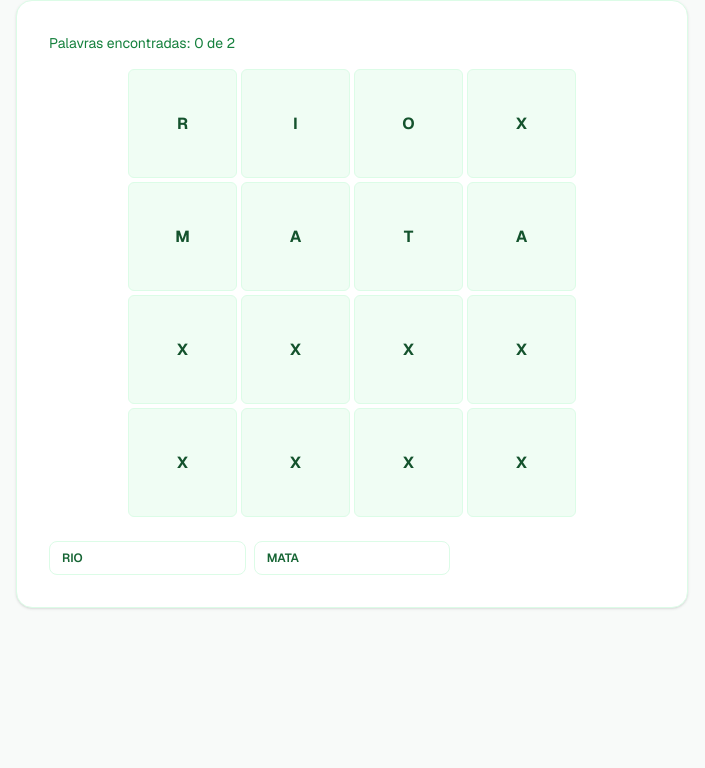
Test case: CacaPalavrasGame › exibe a mensagem de vitória ao encontrar todas as palavras
Click the button named "Linha 1, coluna 1" at (182, 124), box [128,69,237,178]
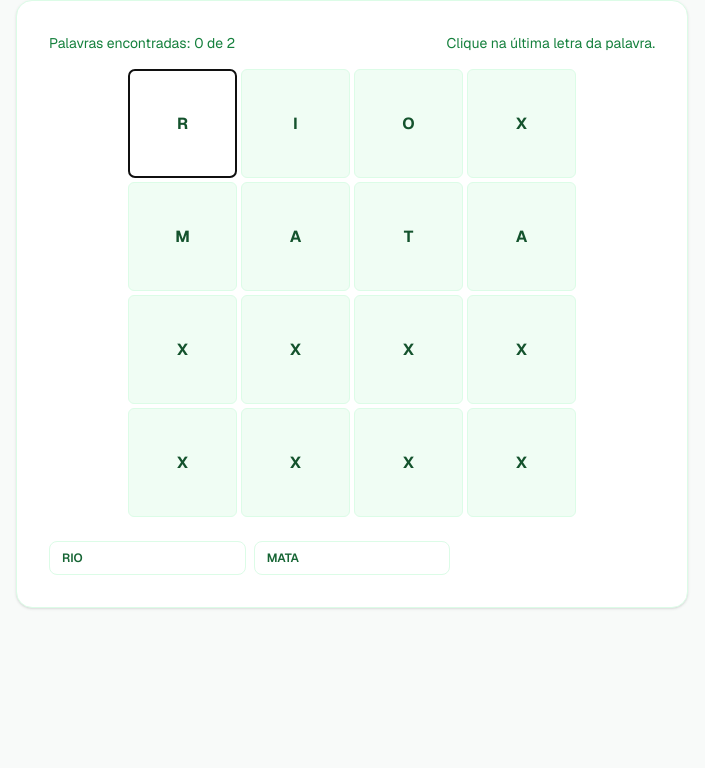
Click the button named "Linha 1, coluna 3" at (408, 124), box [354,69,463,178]
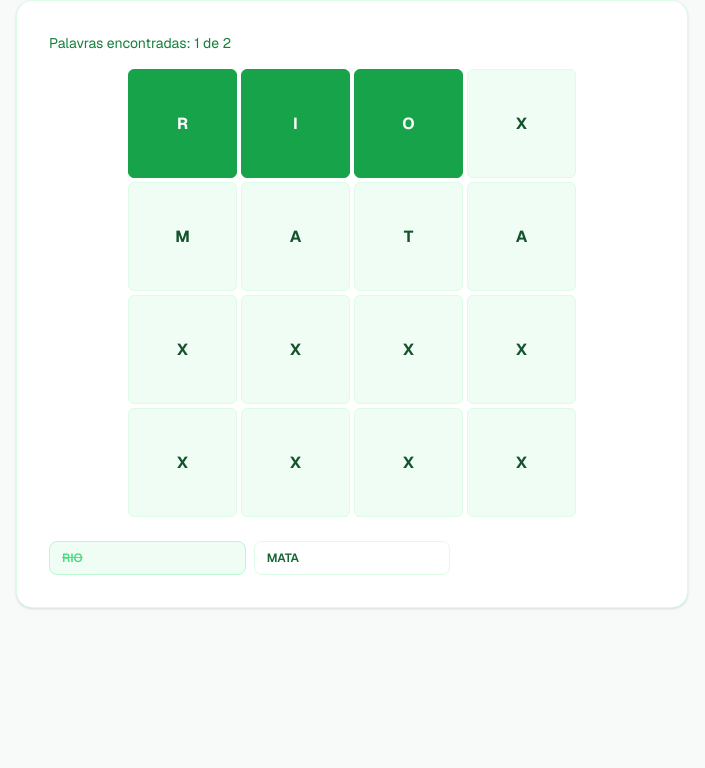
Click the button named "Linha 2, coluna 1" at (182, 236), box [128,182,237,291]
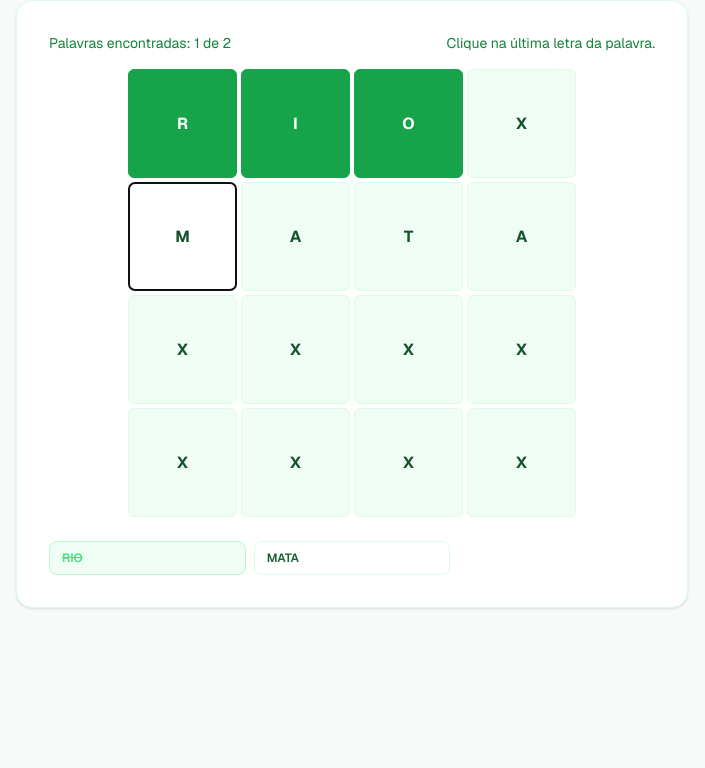
Click the button named "Linha 2, coluna 4" at (522, 236), box [467,182,576,291]
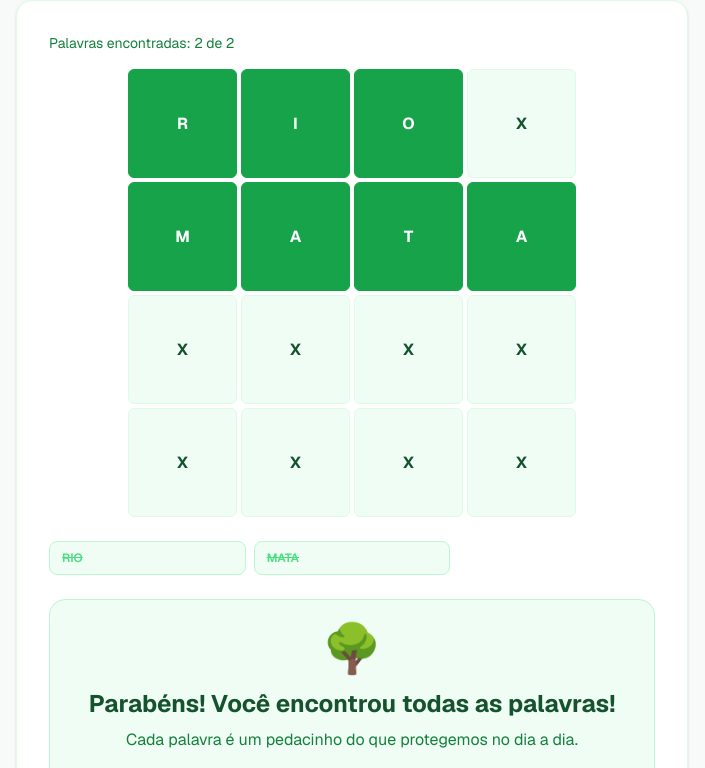
Expected: the heading "Parabéns! Você encontrou todas as palavras!" is shown, [74,688,630,720]
